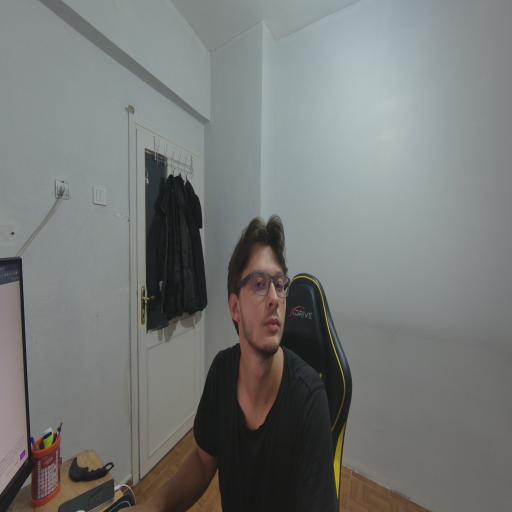cuma-face-v2: (224, 190, 300, 336)
